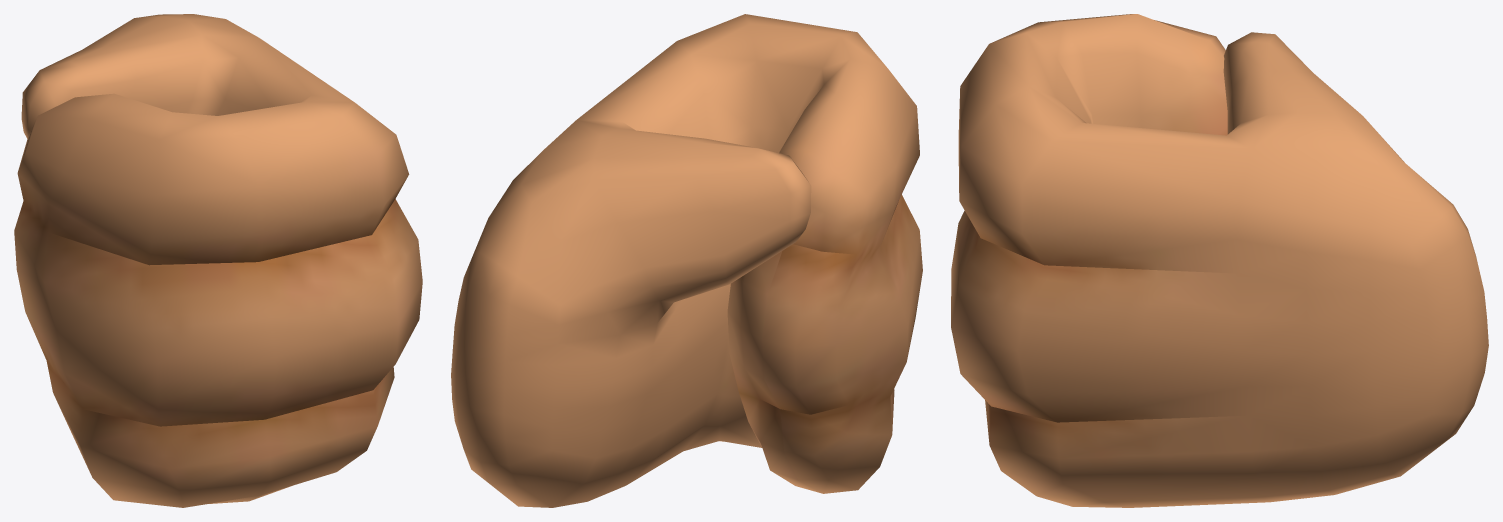
File: Grip_L.fbx
The picture shows the model from 3 angles, left to right: view 1: azimuth 30°, elevation 25°; view 2: azimuth 150°, elevation 25°; view 3: azimuth 270°, elevation 25°; orthographic projection. The views are drawn at different scales.
Parts seen in each view (by area): view 1: Hand_Grip_L; view 2: Hand_Grip_L; view 3: Hand_Grip_L.
Boxes of the visible parts, x1,y1,x2,y2 form: Hand_Grip_L: [14, 14, 422, 507]; Hand_Grip_L: [451, 14, 922, 507]; Hand_Grip_L: [951, 14, 1488, 507].
Bounding box in the file's own units: 0.2069 × 0.2512 × 0.2913.
